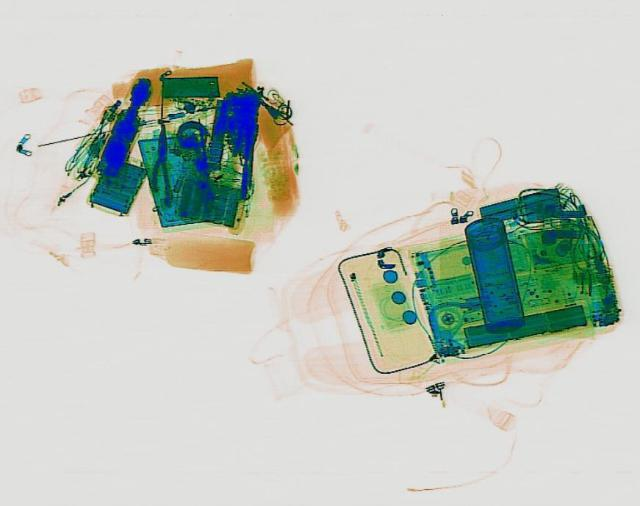Pliers: (144, 124, 174, 199)
